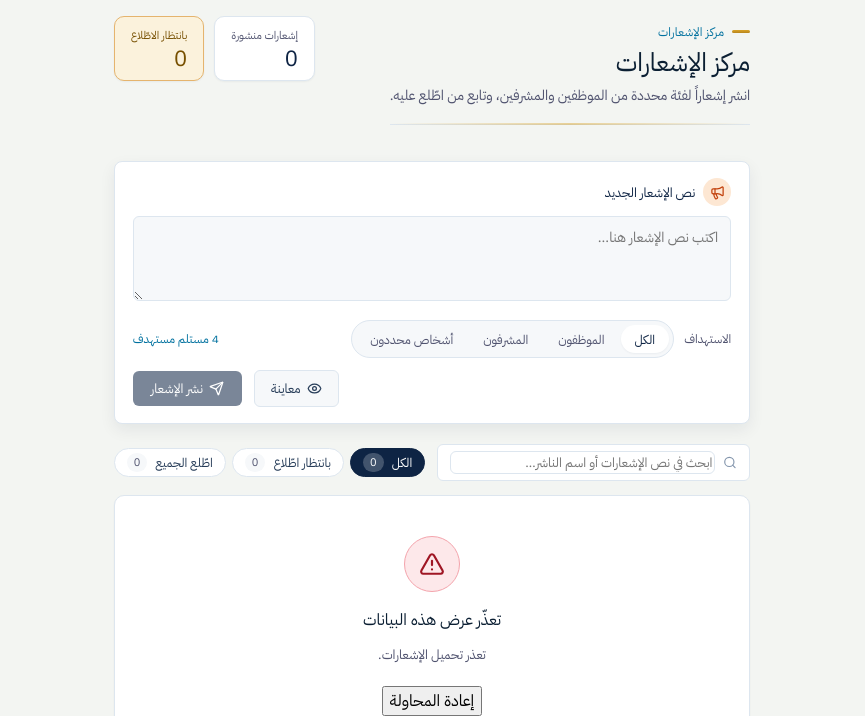
Scenario: NotificationManager loading/error hardening › shows an error state with a retry action when the initial load fails, and recovers on retry
Expected: the text "تعذر تحميل الإشعارات." is shown, [378,644,486,666]
What coordinates should you click on to do the following:
click the button "إعادة المحاولة"
I would click on:
 (432, 701)
Its box is [382,686,482,715].
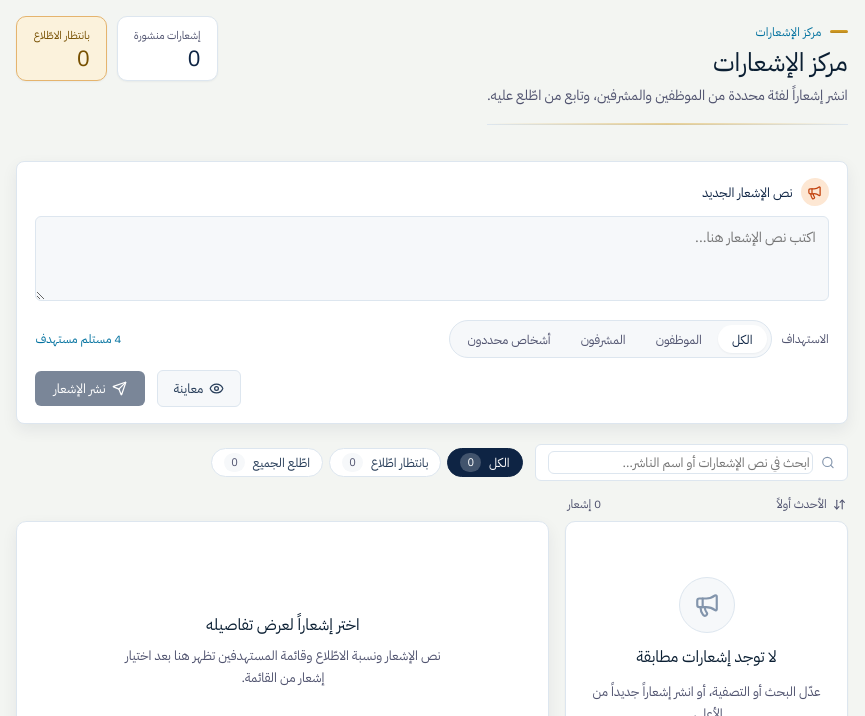
Expected: the heading "لا توجد إشعارات مطابقة" is shown, [636,645,777,669]
Expected: the text "تعذر تحميل الإشعارات." is gone
